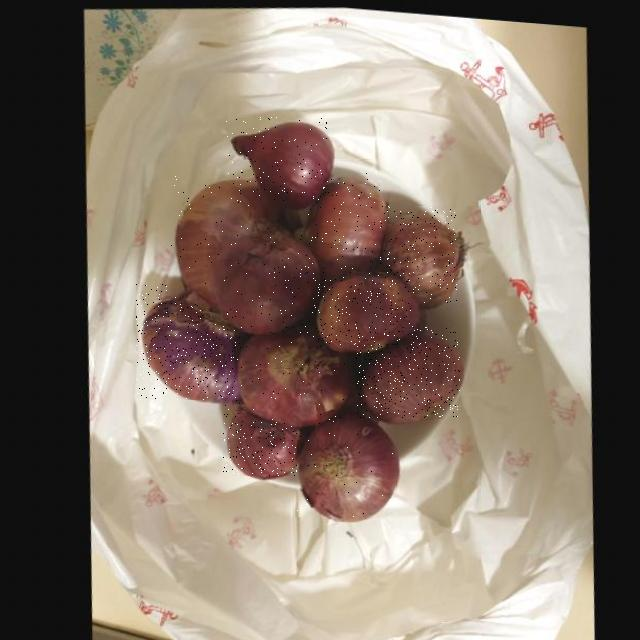biowaste: (169, 176, 270, 301), (137, 284, 236, 400), (296, 408, 396, 516), (205, 231, 314, 329), (233, 330, 345, 421), (357, 327, 460, 418), (225, 116, 327, 202), (311, 265, 414, 346), (372, 206, 457, 303), (301, 173, 381, 276), (223, 399, 297, 476)
